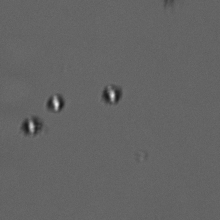Living Cell: (20, 116, 42, 137), (102, 82, 122, 105), (45, 93, 65, 114)
